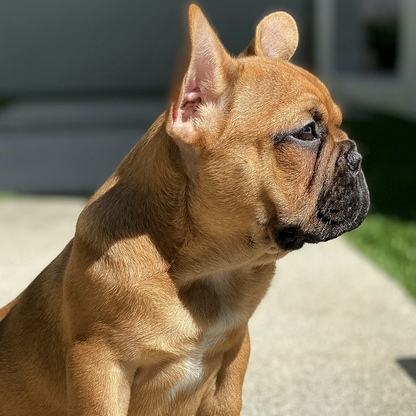bulldog: (22, 6, 372, 416)
